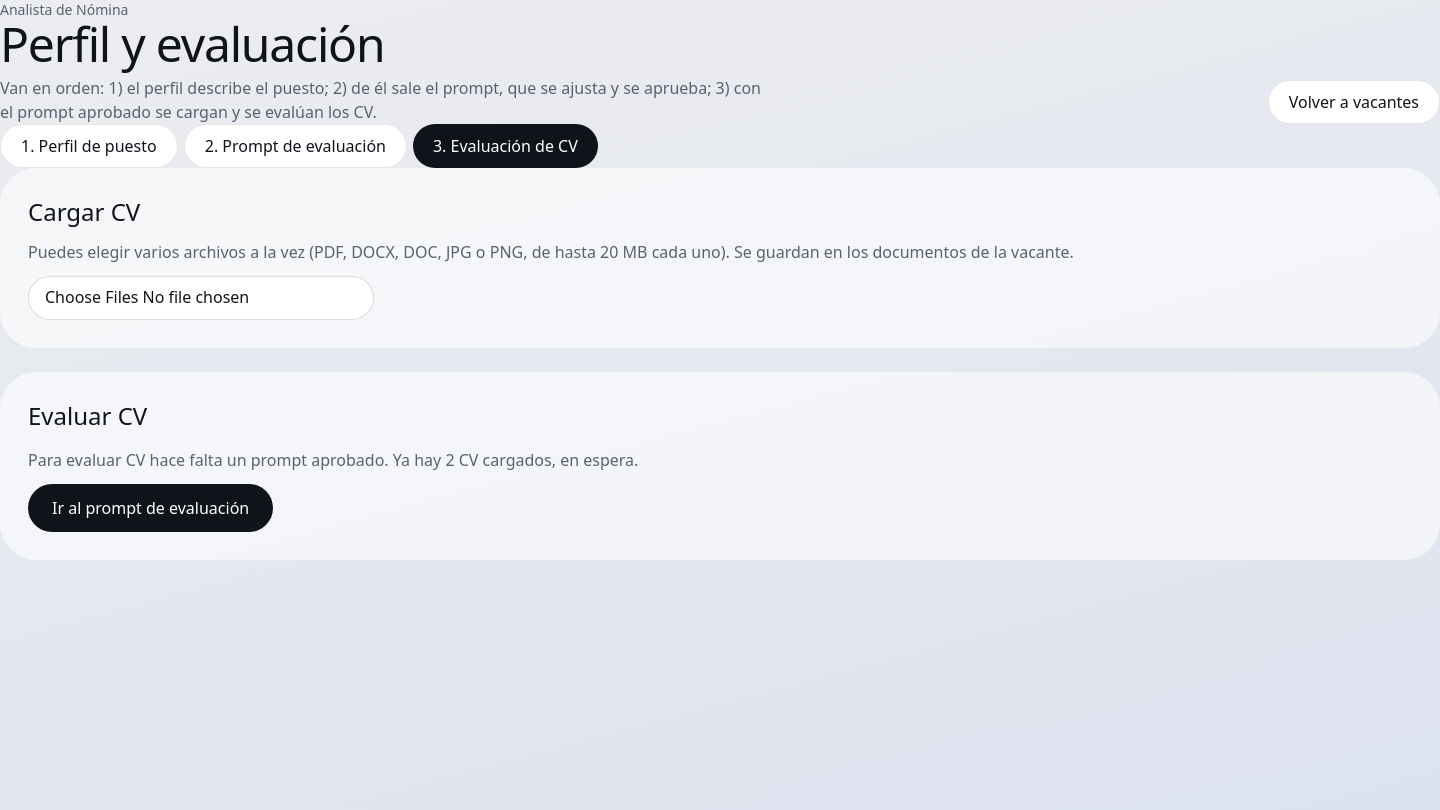
Test case: EvaluationWorkspace › se abre en la pestaña pedida y, sin prompt aprobado, lleva a aprobarlo
Expected: the heading "Cargar CV" is shown, [28,195,140,228]
Expected: the text "Ya hay 2 CV cargados, en espera" is shown, [389,449,638,471]
Click the button "Ir al prompt de evaluación" at [151, 508], box [28,484,273,532]
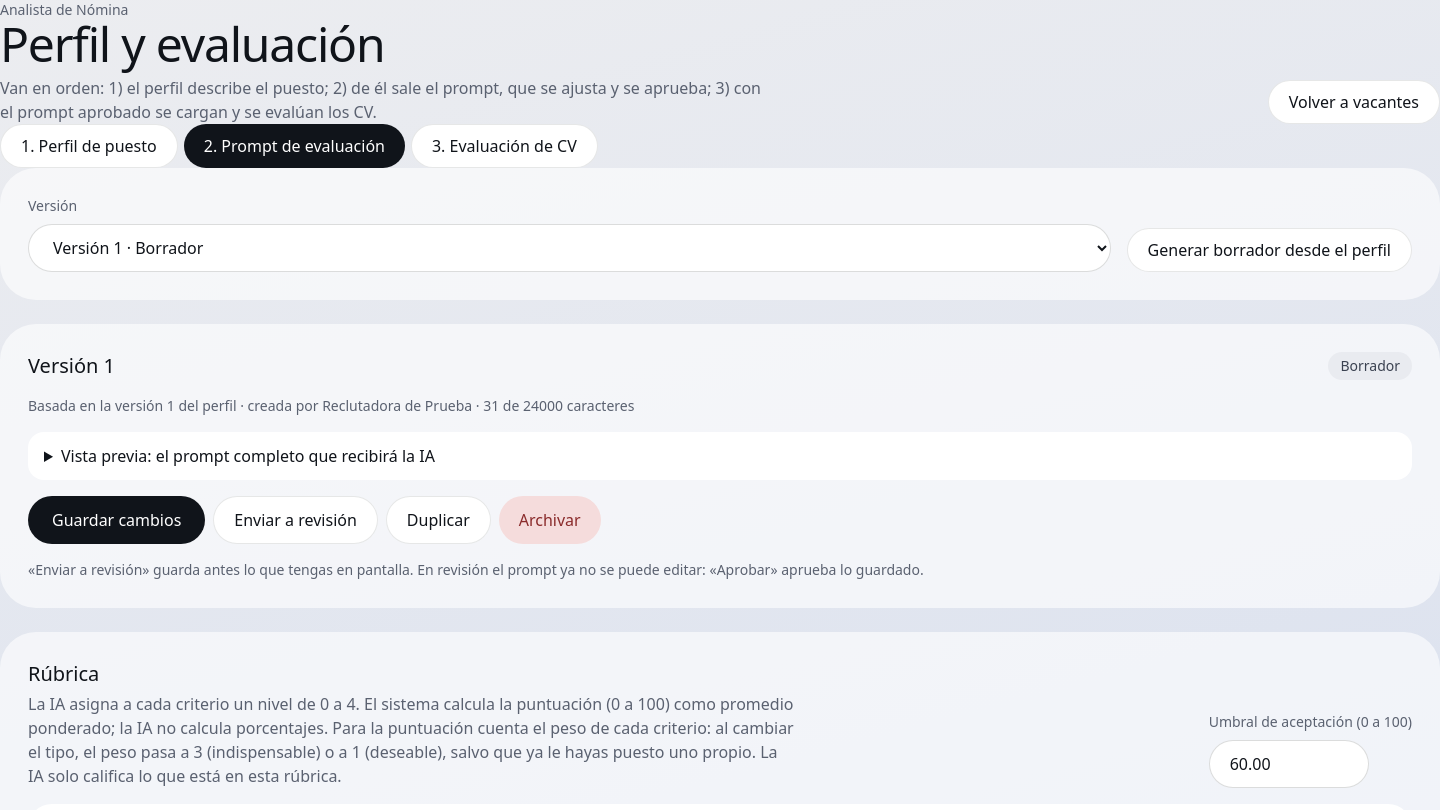
Expected: the button "2. Prompt de evaluación" is pressed, [184,124,405,168]
